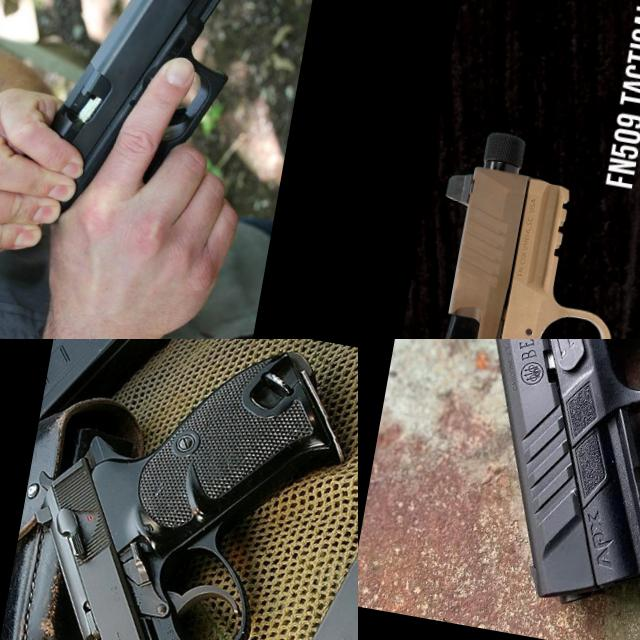handgun: (0, 339, 358, 640), (376, 339, 640, 640), (362, 118, 640, 339), (38, 0, 261, 202)
